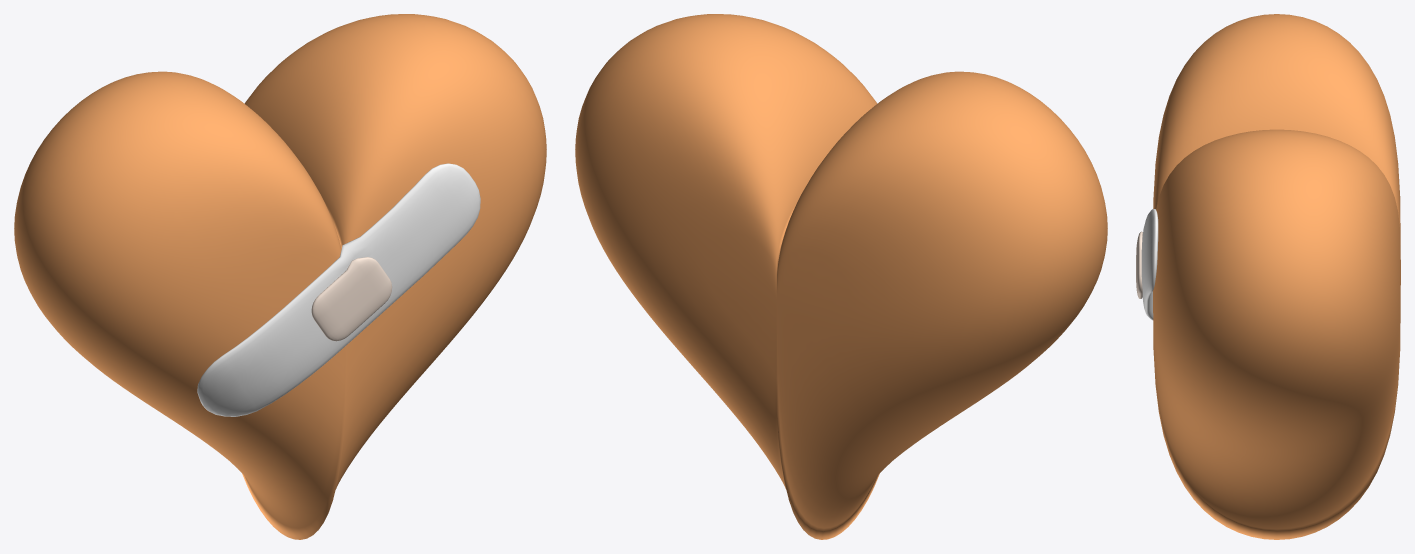
Rendered from 03-mended-heart.glb.
3 views of the same model, side by side, from view 1: azimuth 30°, elevation 25°; view 2: azimuth 150°, elevation 25°; view 3: azimuth 270°, elevation 25° (orthographic). The views are drawn at different scales.
Parts seen in each view (by area): view 1: MendedHeart; view 2: MendedHeart; view 3: MendedHeart.
Boxes of the visible parts, <box> form: MendedHeart: <box>14,14,546,539</box>; MendedHeart: <box>575,14,1107,539</box>; MendedHeart: <box>1136,14,1400,539</box>.
Size of the model in its own units: 1.2 by 1.08 by 0.5717.
